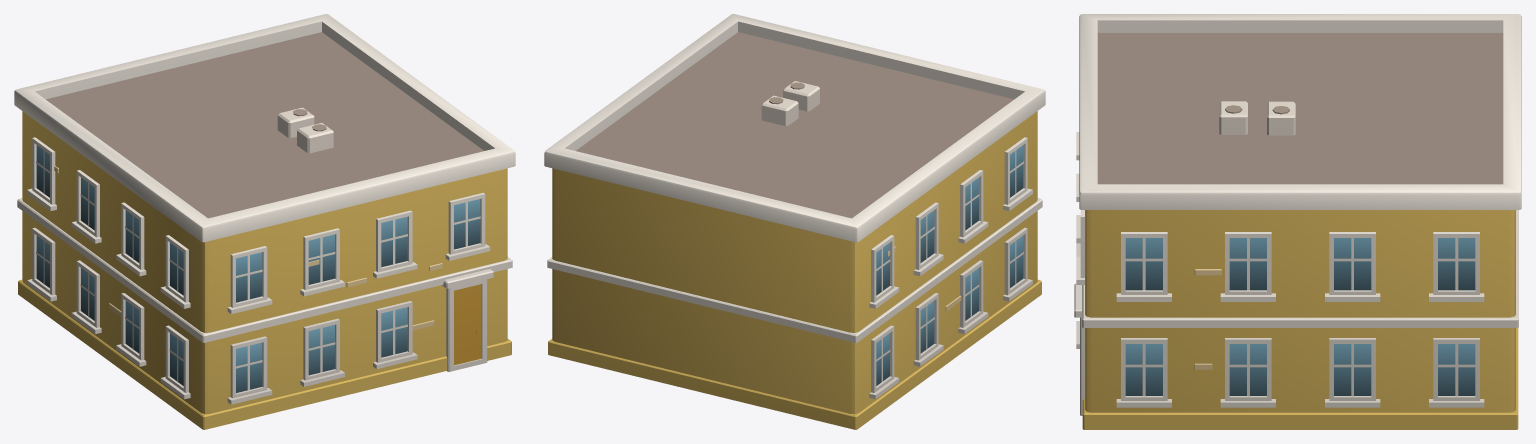
Rendered from vee_right4.glb.
The picture shows the model from 3 angles, left to right: view 1: azimuth 30°, elevation 25°; view 2: azimuth 150°, elevation 25°; view 3: azimuth 270°, elevation 25°; orthographic projection. The views are drawn at different scales.
Parts seen in each view (by area): view 1: vee_right4; view 2: vee_right4; view 3: vee_right4.
Boxes of the visible parts, box(x1,y1,x2,y2) form: vee_right4: box(14, 14, 515, 429); vee_right4: box(544, 14, 1045, 429); vee_right4: box(1074, 14, 1521, 429).
Size of the model in its own units: 11.98 by 7.63 by 12.46.
1 material, 1 textured.
